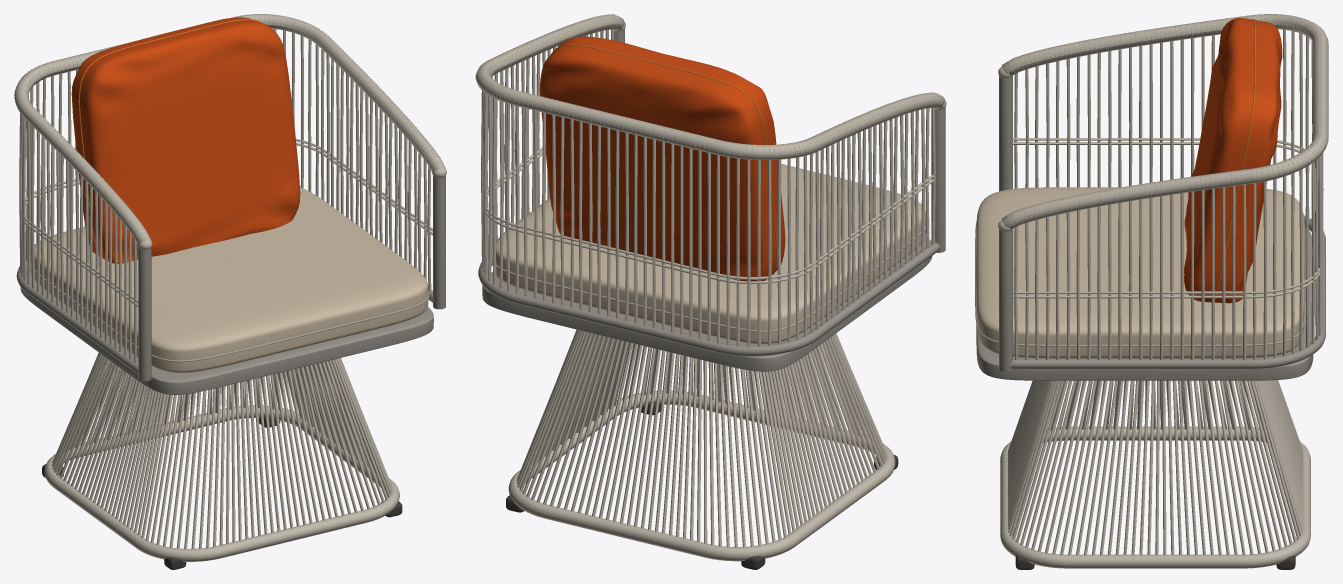
Rendered from C24_rope_chair.glb.
3 views of the same model, side by side, from view 1: azimuth 30°, elevation 25°; view 2: azimuth 150°, elevation 25°; view 3: azimuth 270°, elevation 25° (orthographic). The views are drawn at different scales.
Visible parts, largest first — view 1: Warm grey-beige woven rope, Burnt orange woven loose pillow, Sand taupe seat cushion textile, Taupe powder-coated metal frame, Taupe seat cushion piping, Dark recessed rubber foot pads; view 2: Warm grey-beige woven rope, Burnt orange woven loose pillow, Sand taupe seat cushion textile, Taupe powder-coated metal frame, Taupe seat cushion piping, Orange pillow piping, Dark recessed rubber foot pads; view 3: Warm grey-beige woven rope, Sand taupe seat cushion textile, Burnt orange woven loose pillow, Taupe powder-coated metal frame, Taupe seat cushion piping, Orange pillow piping.
Boxes of the visible parts, <box> form: Warm grey-beige woven rope: <box>14,14,446,561</box>; Burnt orange woven loose pillow: <box>71,17,300,263</box>; Sand taupe seat cushion textile: <box>30,187,428,372</box>; Taupe powder-coated metal frame: <box>16,175,445,394</box>; Taupe seat cushion piping: <box>30,263,429,362</box>; Dark recessed rubber foot pads: <box>42,415,402,569</box>; Warm grey-beige woven rope: <box>475,14,946,561</box>; Burnt orange woven loose pillow: <box>539,36,785,281</box>; Sand taupe seat cushion textile: <box>496,164,925,344</box>; Taupe powder-coated metal frame: <box>478,29,945,371</box>; Taupe seat cushion piping: <box>492,226,925,332</box>; Orange pillow piping: <box>551,44,777,274</box>; Dark recessed rubber foot pads: <box>506,401,898,569</box>; Warm grey-beige woven rope: <box>998,14,1328,568</box>; Sand taupe seat cushion textile: <box>976,187,1304,358</box>; Burnt orange woven loose pillow: <box>1184,17,1282,303</box>; Taupe powder-coated metal frame: <box>976,76,1325,380</box>; Taupe seat cushion piping: <box>975,222,1305,346</box>; Orange pillow piping: <box>1214,19,1255,302</box>.
Size of the model in its own units: 0.6515 by 0.8686 by 0.6079.
Materials: 7 (2 with a texture image).
